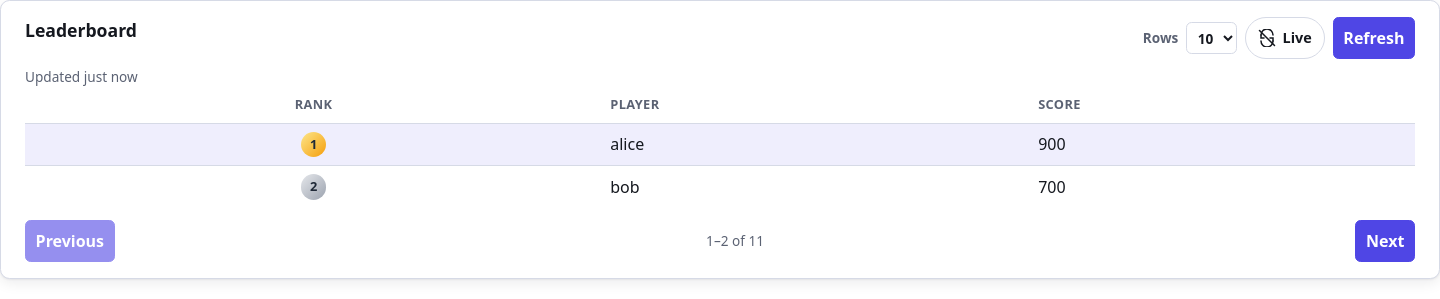
Test: Leaderboard › pages forward and back using the total from the API
Expected: the text "alice" is shown, [602,123,1030,166]
Note: total 11 with a page size of 10 makes the next page reachable.
Click the button "Next" at (1385, 241), box [1356,220,1415,262]
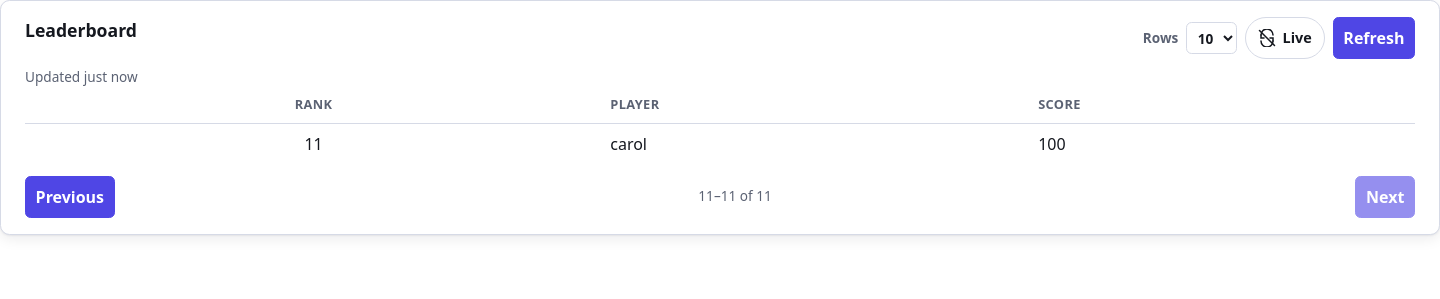
Now the text "carol" is shown, box [602,123,1030,164]
Click the button "Previous" at (70, 197), box [25,176,115,218]
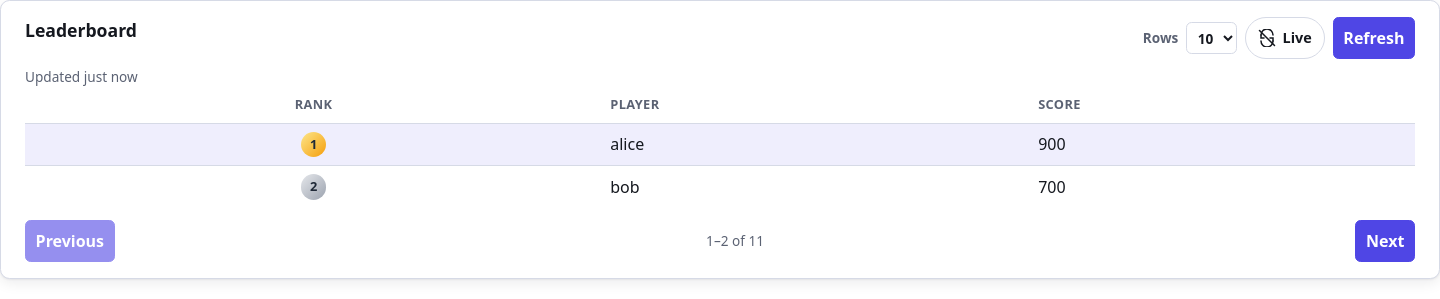
Now the text "alice" is shown, box [602,123,1030,166]
